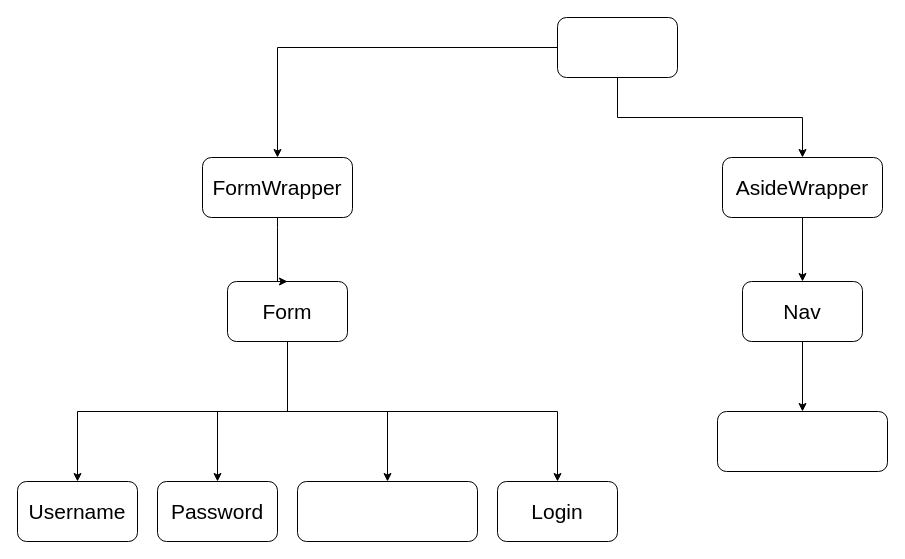
The diagram is 905 pixels wide and 559 high, and some of its shapes have lost their labels. The shapes that lost their labels are listed below. From the top down, each one's centre as x and y in pixels, then its label:
At point 617,47: "Page".
At point 802,441: "CreateAccount".
At point 387,511: "ForgotPassword".
